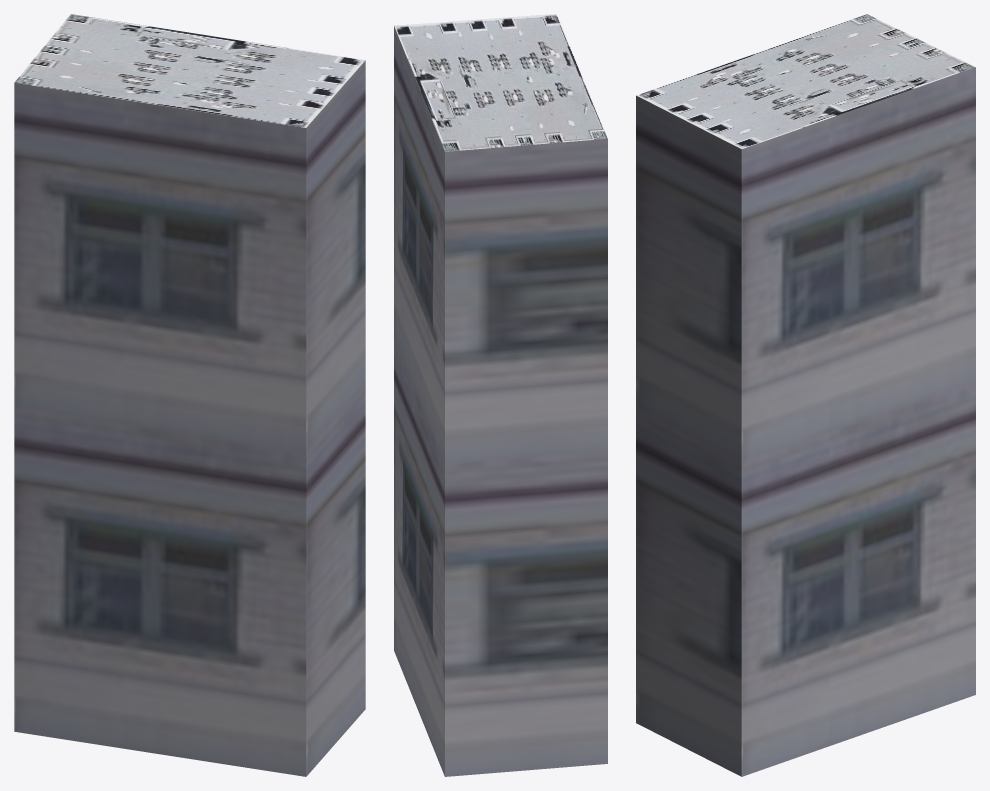
File: ResTex__2881.fbx
The picture shows the model from 3 angles, left to right: view 1: azimuth 30°, elevation 25°; view 2: azimuth 150°, elevation 25°; view 3: azimuth 270°, elevation 25°; orthographic projection. The views are drawn at different scales.
Parts seen in each view (by area): view 1: CityEngineMaterial_1_m, CityEngineMaterial_2_m; view 2: CityEngineMaterial_1_m, CityEngineMaterial_2_m; view 3: CityEngineMaterial_1_m, CityEngineMaterial_2_m.
Boxes of the visible parts, x1,y1,x2,y2 form: CityEngineMaterial_1_m: (14,60,365,776); CityEngineMaterial_2_m: (14,14,365,127); CityEngineMaterial_1_m: (394,26,607,776); CityEngineMaterial_2_m: (394,14,607,151); CityEngineMaterial_1_m: (636,67,975,776); CityEngineMaterial_2_m: (636,14,975,149).
Bounding box in the file's own units: 2.77 × 6 × 2.94.
2 materials, 2 textured.
